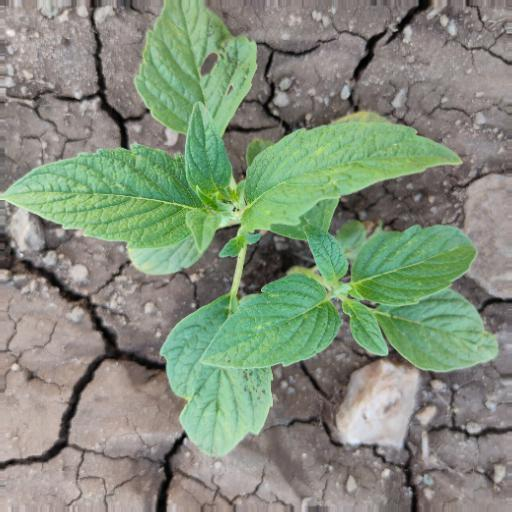crop: (1, 19, 505, 464)
